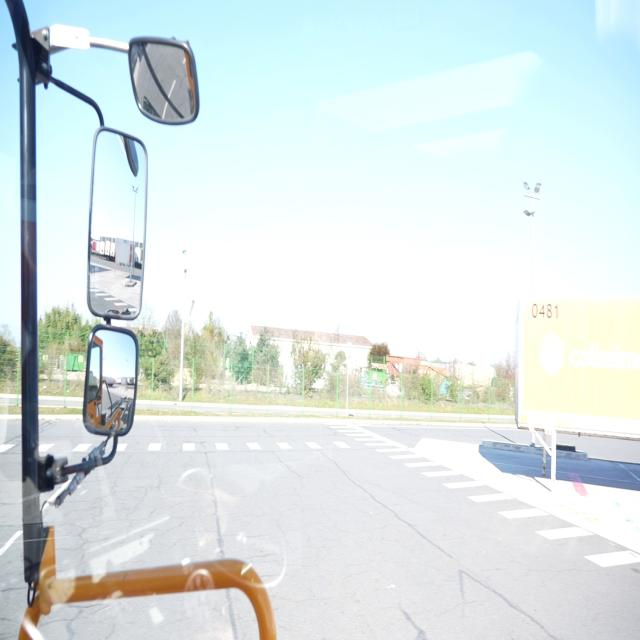Code: (528, 294, 560, 322)
